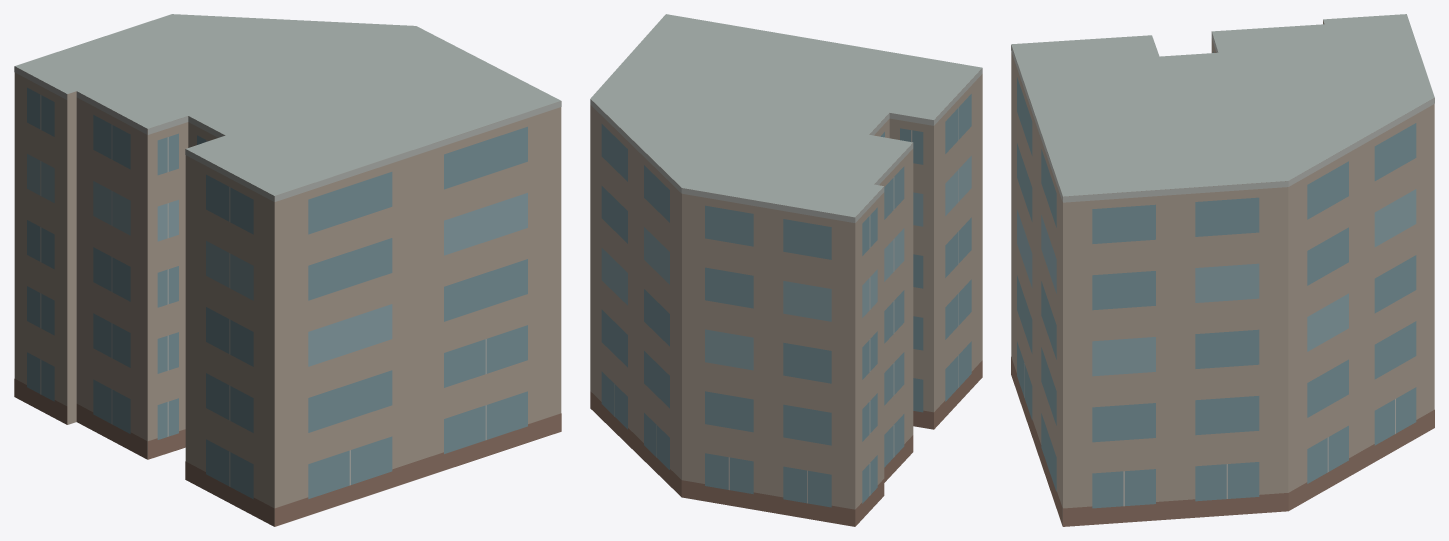
The model's file is survey-upis-32985991.glb.
The picture shows the model from 3 angles, left to right: view 1: azimuth 30°, elevation 25°; view 2: azimuth 150°, elevation 25°; view 3: azimuth 270°, elevation 25°; orthographic projection. The views are drawn at different scales.
Visible parts, largest first — view 1: survey-upis-32985991.tmp; view 2: survey-upis-32985991.tmp; view 3: survey-upis-32985991.tmp.
Boxes of the visible parts, <box> form: survey-upis-32985991.tmp: <box>14,14,561,526</box>; survey-upis-32985991.tmp: <box>590,14,982,526</box>; survey-upis-32985991.tmp: <box>1011,14,1434,526</box>.
Bounding box in the file's own units: 15.53 × 13.1 × 15.24.
